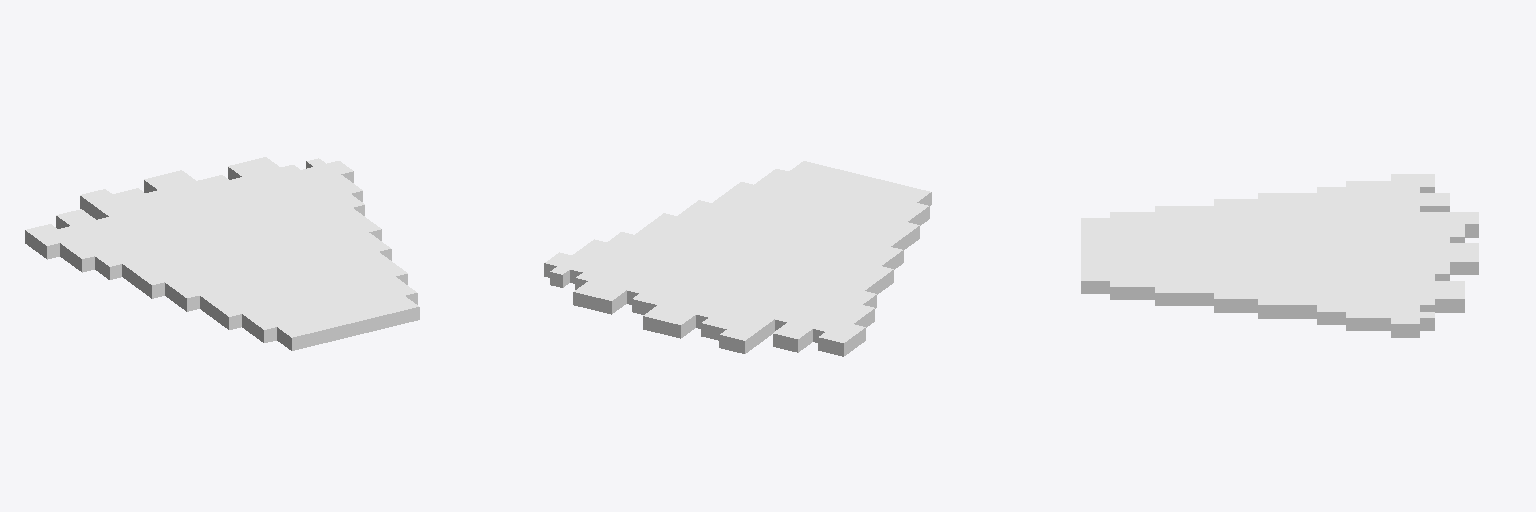
The model's file is Shop_Sign3.obj.
3 renders of one model, left to right at view 1: azimuth 30°, elevation 25°; view 2: azimuth 150°, elevation 25°; view 3: azimuth 270°, elevation 25°, orthographic.
Parts seen in each view (by area): view 1: object 1; view 2: object 1; view 3: object 1.
Part boxes in pixels (x1,y1,x2,y2): object 1: (25, 157, 419, 350); object 1: (544, 161, 931, 356); object 1: (1081, 174, 1478, 337).
Bounding box in the file's own units: 2.4 × 0.1 × 2.7.